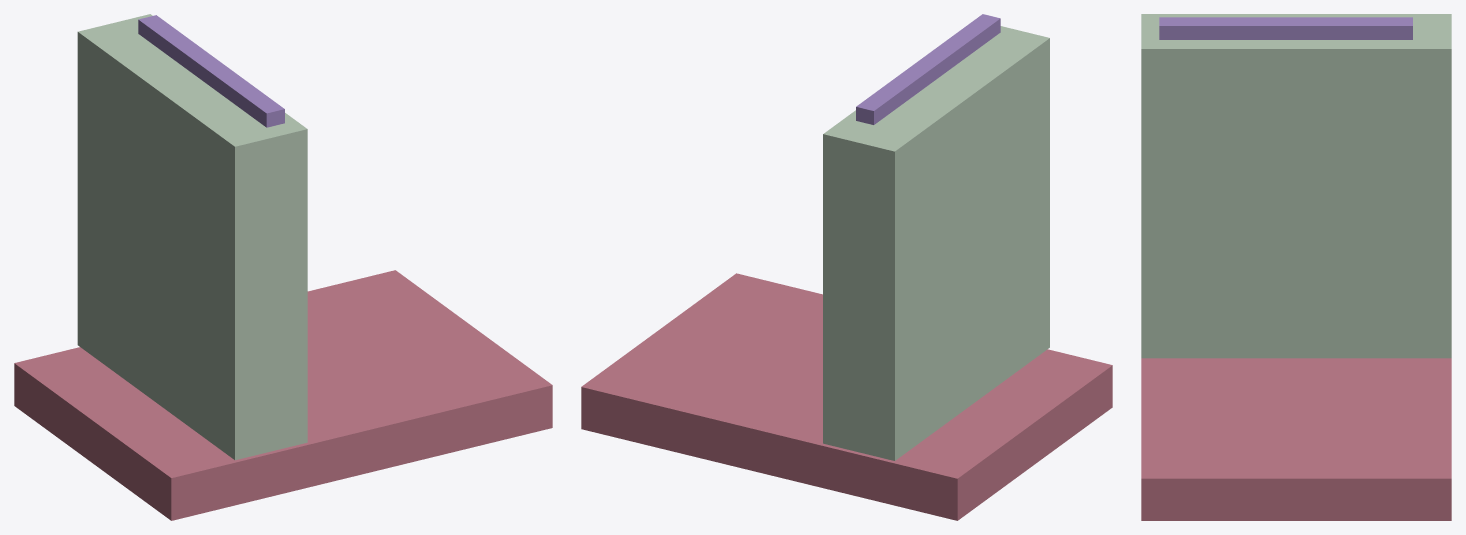
File: 199503_pred.glb
3 renders of one model, left to right at view 1: azimuth 30°, elevation 25°; view 2: azimuth 150°, elevation 25°; view 3: azimuth 270°, elevation 25°, orthographic.
Parts seen in each view (by area): view 1: world; view 2: world; view 3: world.
Boxes of the visible parts, x1,y1,x2,y2 form: world: (14, 14, 552, 520); world: (581, 14, 1112, 520); world: (1141, 14, 1451, 520).
Size of the model in its own units: 8.4 by 7.9 by 6.
